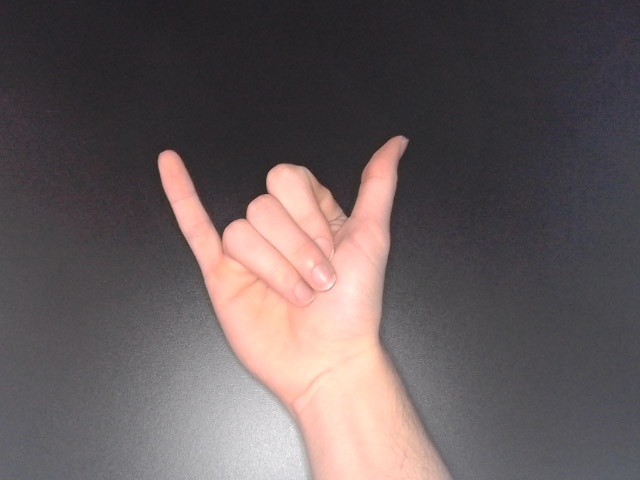y: (150, 130, 416, 409)
